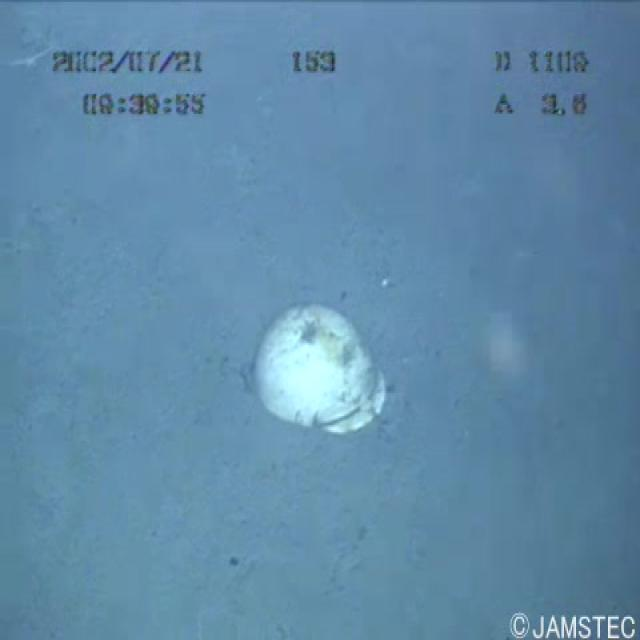plastic: (229, 304, 419, 430)
